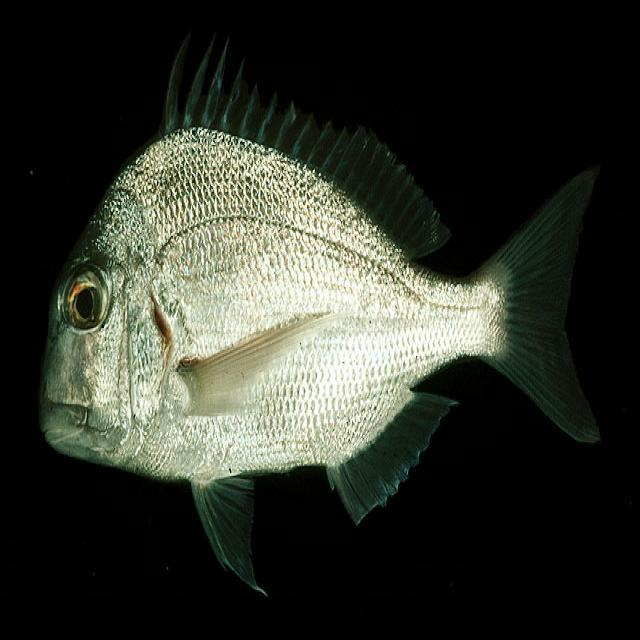Healthy Fish: (32, 57, 618, 601)
